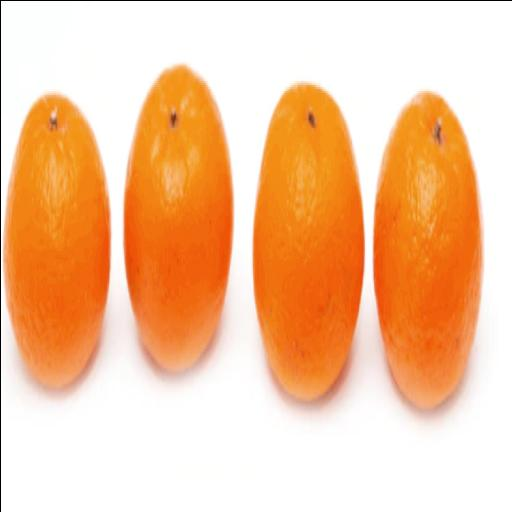orange: (253, 84, 364, 401), (374, 93, 482, 407), (124, 66, 233, 370), (4, 95, 110, 387)
